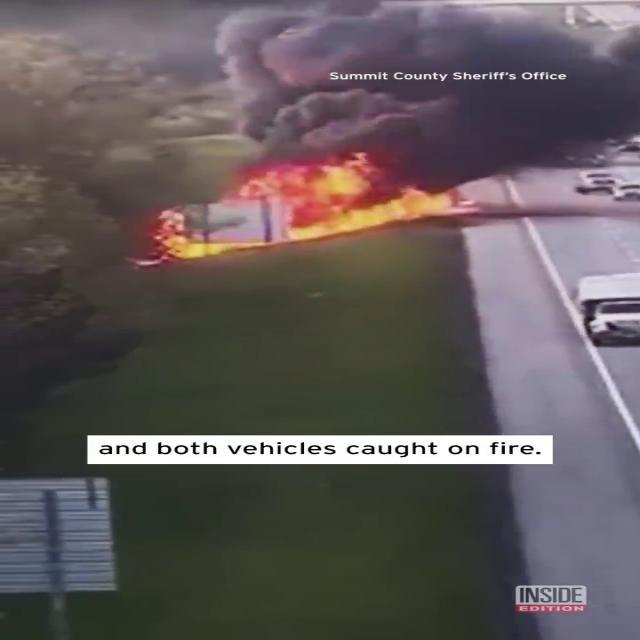Fire: (217, 157, 467, 251), (147, 218, 265, 262)
Smoke: (154, 0, 638, 168)
